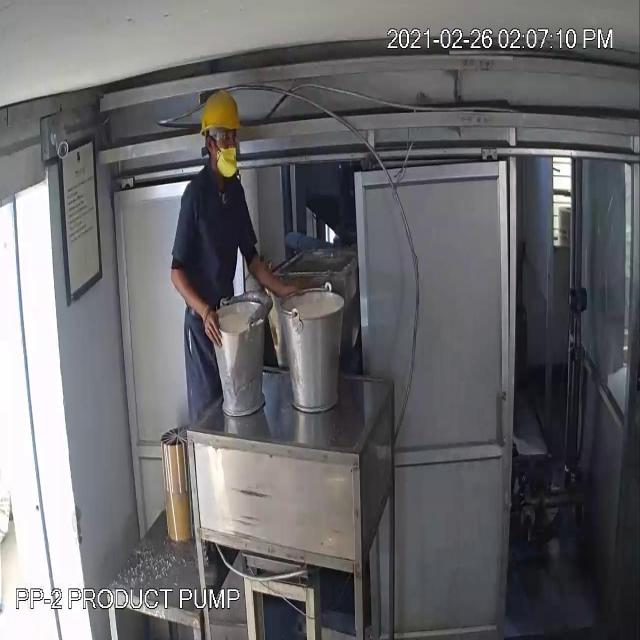helmet: (194, 86, 250, 142)
